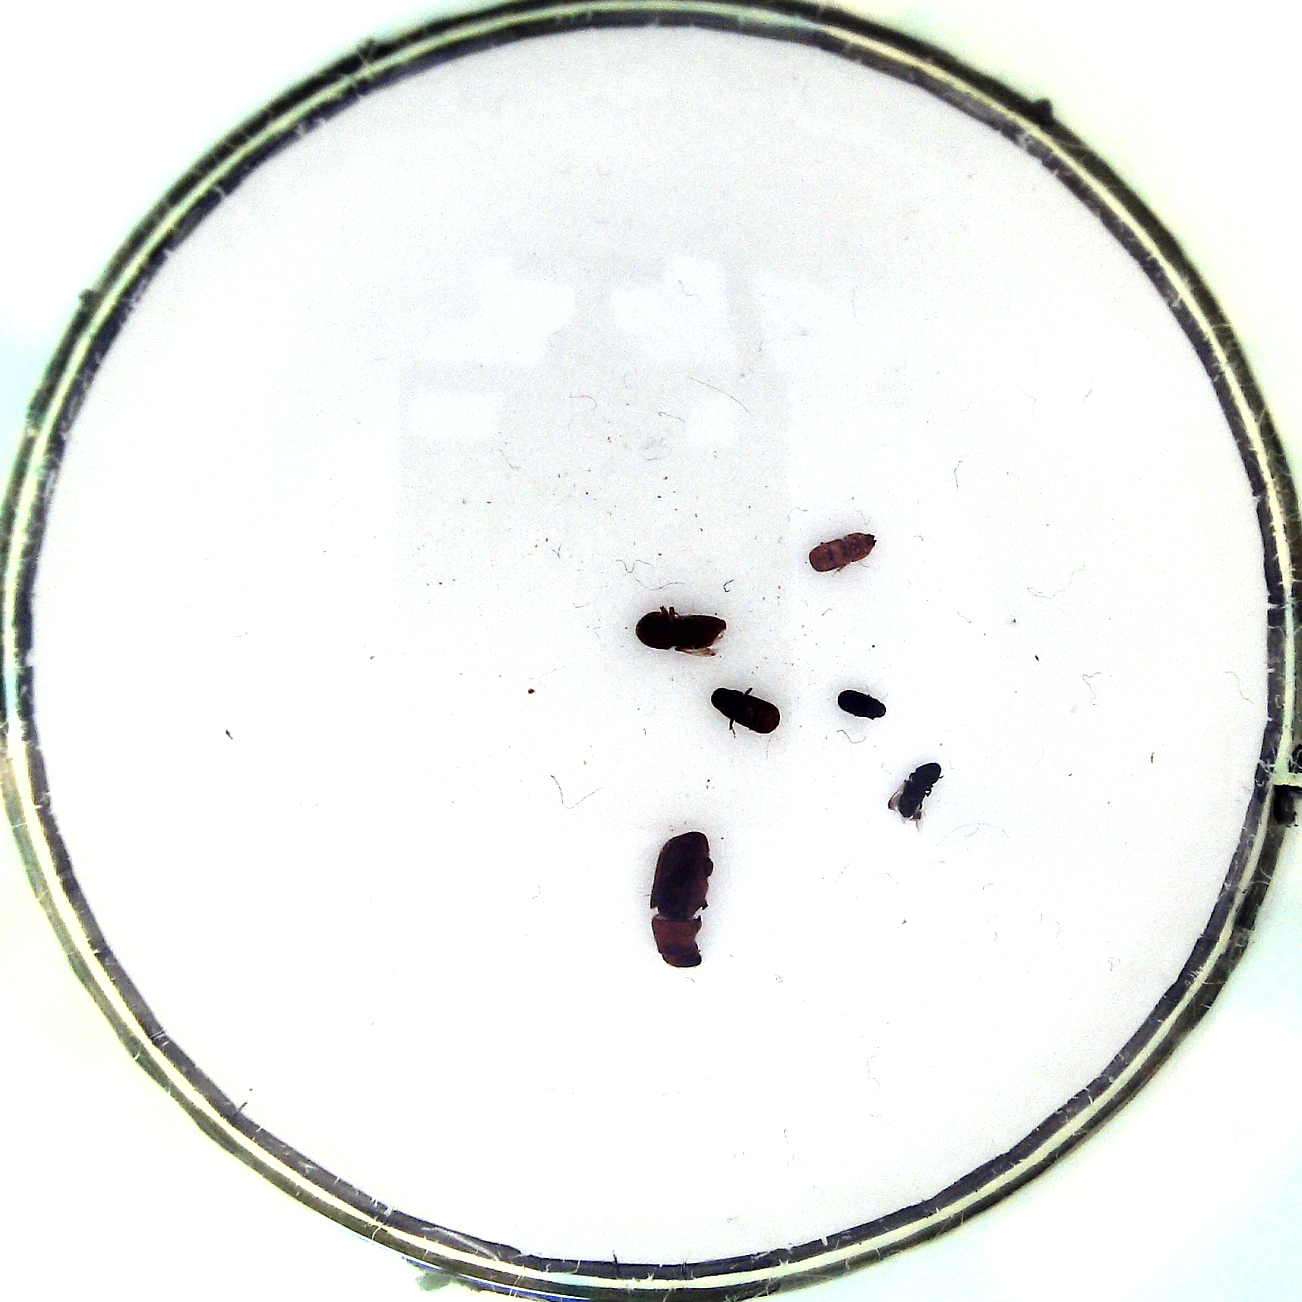Leconte: (646, 826, 721, 972)
Linnaeus: (639, 601, 731, 662)
acuminatus: (806, 522, 880, 579)
armandi: (706, 686, 785, 744)
coleoptera: (885, 758, 945, 829), (836, 686, 892, 727)
